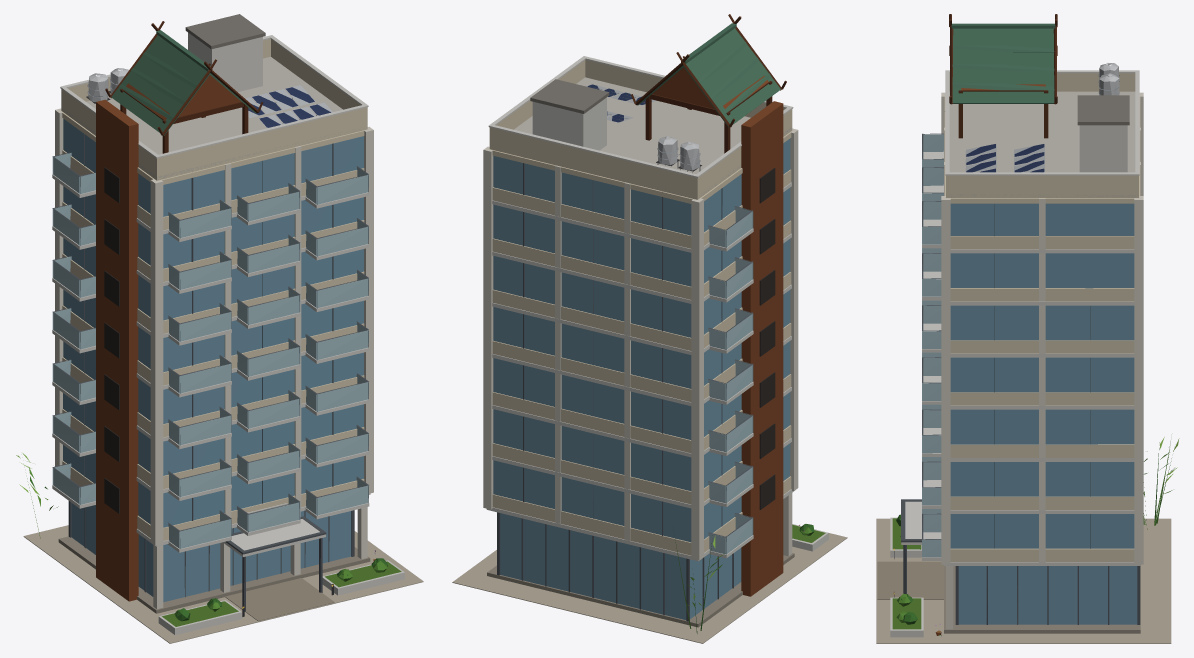
File: home_4.glb
3 renders of one model, left to right at view 1: azimuth 30°, elevation 25°; view 2: azimuth 150°, elevation 25°; view 3: azimuth 270°, elevation 25°, orthographic.
Parts seen in each view (by area): view 1: body, windows; view 2: body, windows; view 3: body.
Part boxes in pixels (x1,y1,x2,y2): body: [16, 14, 423, 643]; windows: [104, 167, 333, 608]; body: [452, 14, 847, 643]; windows: [759, 168, 775, 509]; body: [876, 14, 1179, 643].
Bounding box in the file's own units: 16.5 × 32.39 × 16.34.
